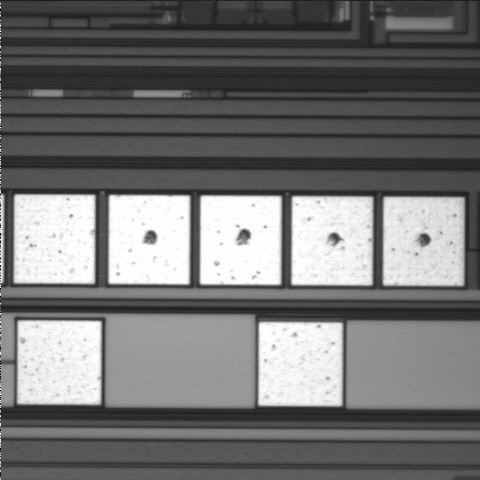pad: (291, 196, 373, 285), (14, 195, 95, 284), (109, 195, 190, 284), (200, 196, 281, 285), (383, 197, 464, 286), (258, 322, 343, 406), (17, 321, 101, 405)
